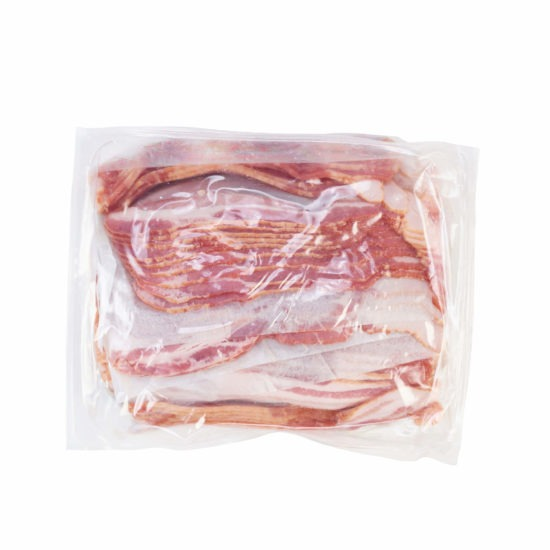bacon: (101, 150, 477, 437)
